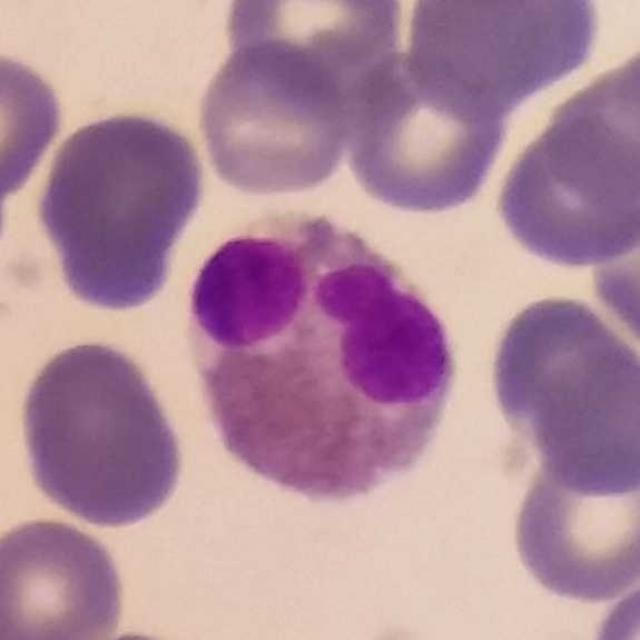Neutrophil: (172, 206, 460, 504)
RBC: (31, 103, 212, 314), (12, 333, 192, 532), (341, 50, 514, 220), (483, 288, 638, 471), (193, 38, 355, 201), (489, 110, 640, 272), (398, 0, 608, 115), (504, 442, 640, 606), (0, 513, 129, 640), (218, 0, 409, 81), (542, 44, 640, 200), (0, 47, 68, 215), (585, 177, 640, 358), (582, 569, 640, 640)
